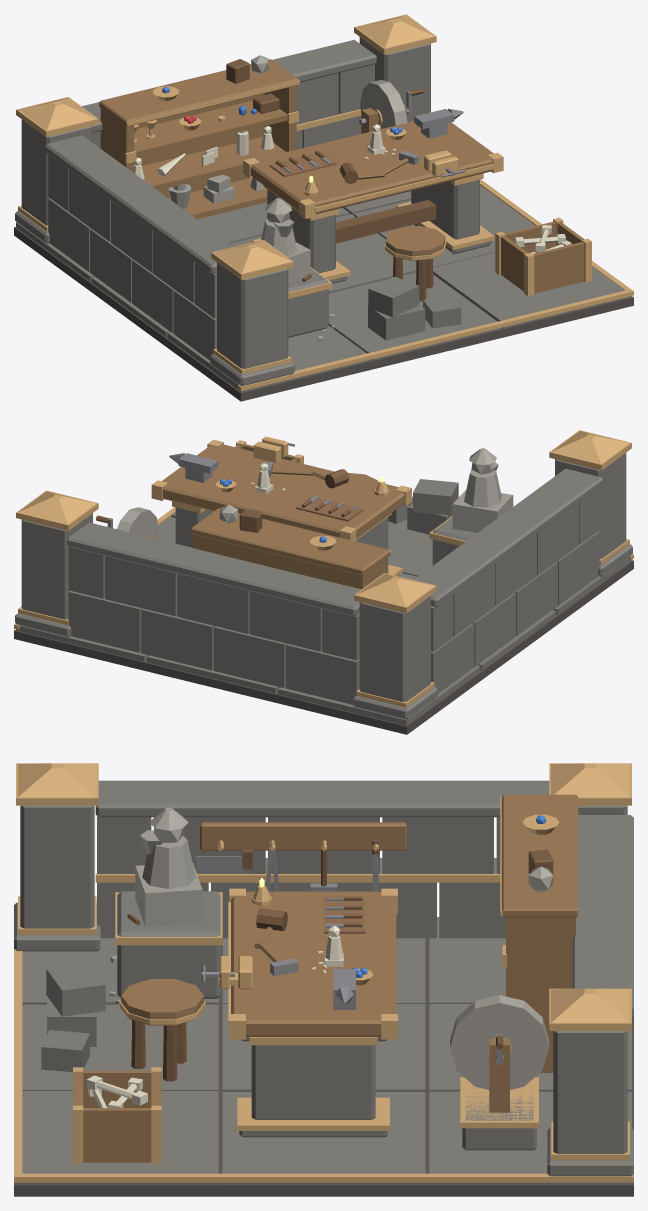
Rendered from craftsdwarf-t2.glb.
3 views of the same model, one above another, from view 1: azimuth 30°, elevation 25°; view 2: azimuth 150°, elevation 25°; view 3: azimuth 270°, elevation 25° (orthographic). The views are drawn at different scales.
Parts seen in each view (by area): view 1: floor_tiles, shelf_frame, wall_left, table_top, pillar_fl, wall_left_coping, floor_base, table_trestles, wall_back, crate, stone_blanks, floor_trim (+22 smaller); view 2: wall_back, wall_left, table_top, wall_back_coping, shelf_frame, pillar_bl, floor_tiles, wall_left_coping, floor_base, pillar_br, pillar_fl, statue_wip (+12 smaller); view 3: floor_tiles, wall_left, table_top, wall_left_coping, shelf_frame, pillar_br, pillar_fl, table_trestles, floor_base, wall_back_coping, floor_trim, carving_pedestal (+24 smaller).
Boxes of the visible parts, left/top/right/bottom form: floor_tiles: left=16, top=185, right=631, bottom=392; shelf_frame: left=99, top=59, right=298, bottom=219; wall_left: left=48, top=155, right=216, bottom=360; table_top: left=250, top=121, right=493, bottom=213; pillar_fl: left=210, top=262, right=294, bottom=385; wall_left_coping: left=45, top=135, right=234, bottom=273; floor_base: left=14, top=227, right=633, bottom=401; table_trestles: left=267, top=179, right=491, bottom=283; wall_back: left=93, top=64, right=374, bottom=149; crate: left=501, top=221, right=584, bottom=293; stone_blanks: left=368, top=276, right=461, bottom=340; floor_trim: left=238, top=179, right=633, bottom=391; wall_back: left=68, top=547, right=359, bottom=704; wall_left: left=431, top=488, right=599, bottom=693; table_top: left=162, top=444, right=404, bottom=538; wall_back_coping: left=67, top=522, right=361, bottom=616; shelf_frame: left=191, top=508, right=390, bottom=589; pillar_bl: left=353, top=595, right=437, bottom=719; floor_tiles: left=16, top=512, right=631, bottom=725; wall_left_coping: left=414, top=468, right=602, bottom=607; floor_base: left=14, top=560, right=633, bottom=734; pillar_br: left=15, top=513, right=92, bottom=637; pillar_fl: left=555, top=453, right=632, bottom=576; statue_wip: left=452, top=448, right=513, bottom=532; floor_tiles: left=16, top=917, right=631, bottom=1184; wall_left: left=97, top=816, right=505, bottom=938; table_top: left=231, top=891, right=396, bottom=1036; wall_left_coping: left=95, top=780, right=549, bottom=817; shelf_frame: left=501, top=794, right=578, bottom=1072; pillar_br: left=547, top=1031, right=633, bottom=1176; pillar_fl: left=14, top=805, right=100, bottom=951; table_trestles: left=239, top=1037, right=387, bottom=1137; floor_base: left=14, top=938, right=633, bottom=1196; wall_back_coping: left=572, top=815, right=633, bottom=1016; floor_trim: left=14, top=949, right=633, bottom=1182; carving_pedestal: left=117, top=891, right=220, bottom=998.
Size of what is drawn, in the model's own units: 3 by 1.12 by 3.
